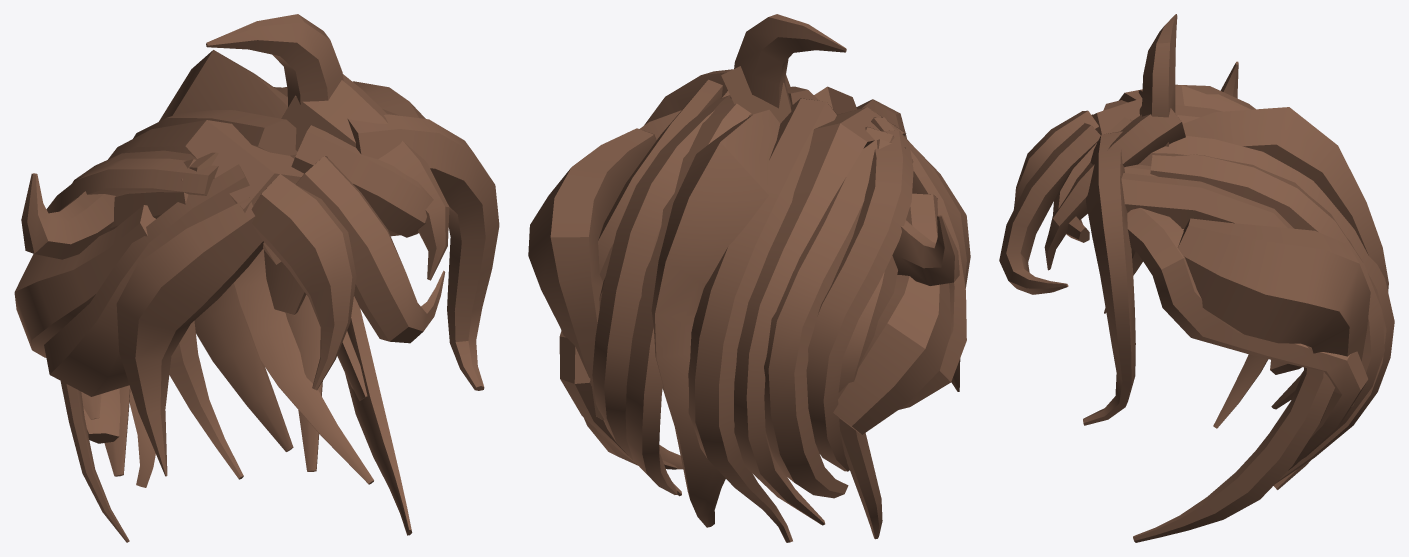
The model's file is hair.fbx.
3 views of the same model, side by side, from view 1: azimuth 30°, elevation 25°; view 2: azimuth 150°, elevation 25°; view 3: azimuth 270°, elevation 25° (orthographic). The views are drawn at different scales.
Visible parts, largest first — view 1: NurbsPath.002; view 2: NurbsPath.002; view 3: NurbsPath.002.
Boxes of the visible parts, x1,y1,x2,y2 form: NurbsPath.002: [14, 14, 499, 542]; NurbsPath.002: [528, 14, 970, 542]; NurbsPath.002: [999, 14, 1394, 542].
Size of the model in its own units: 27.54 by 32.92 by 25.52.
1 material, 1 textured.
